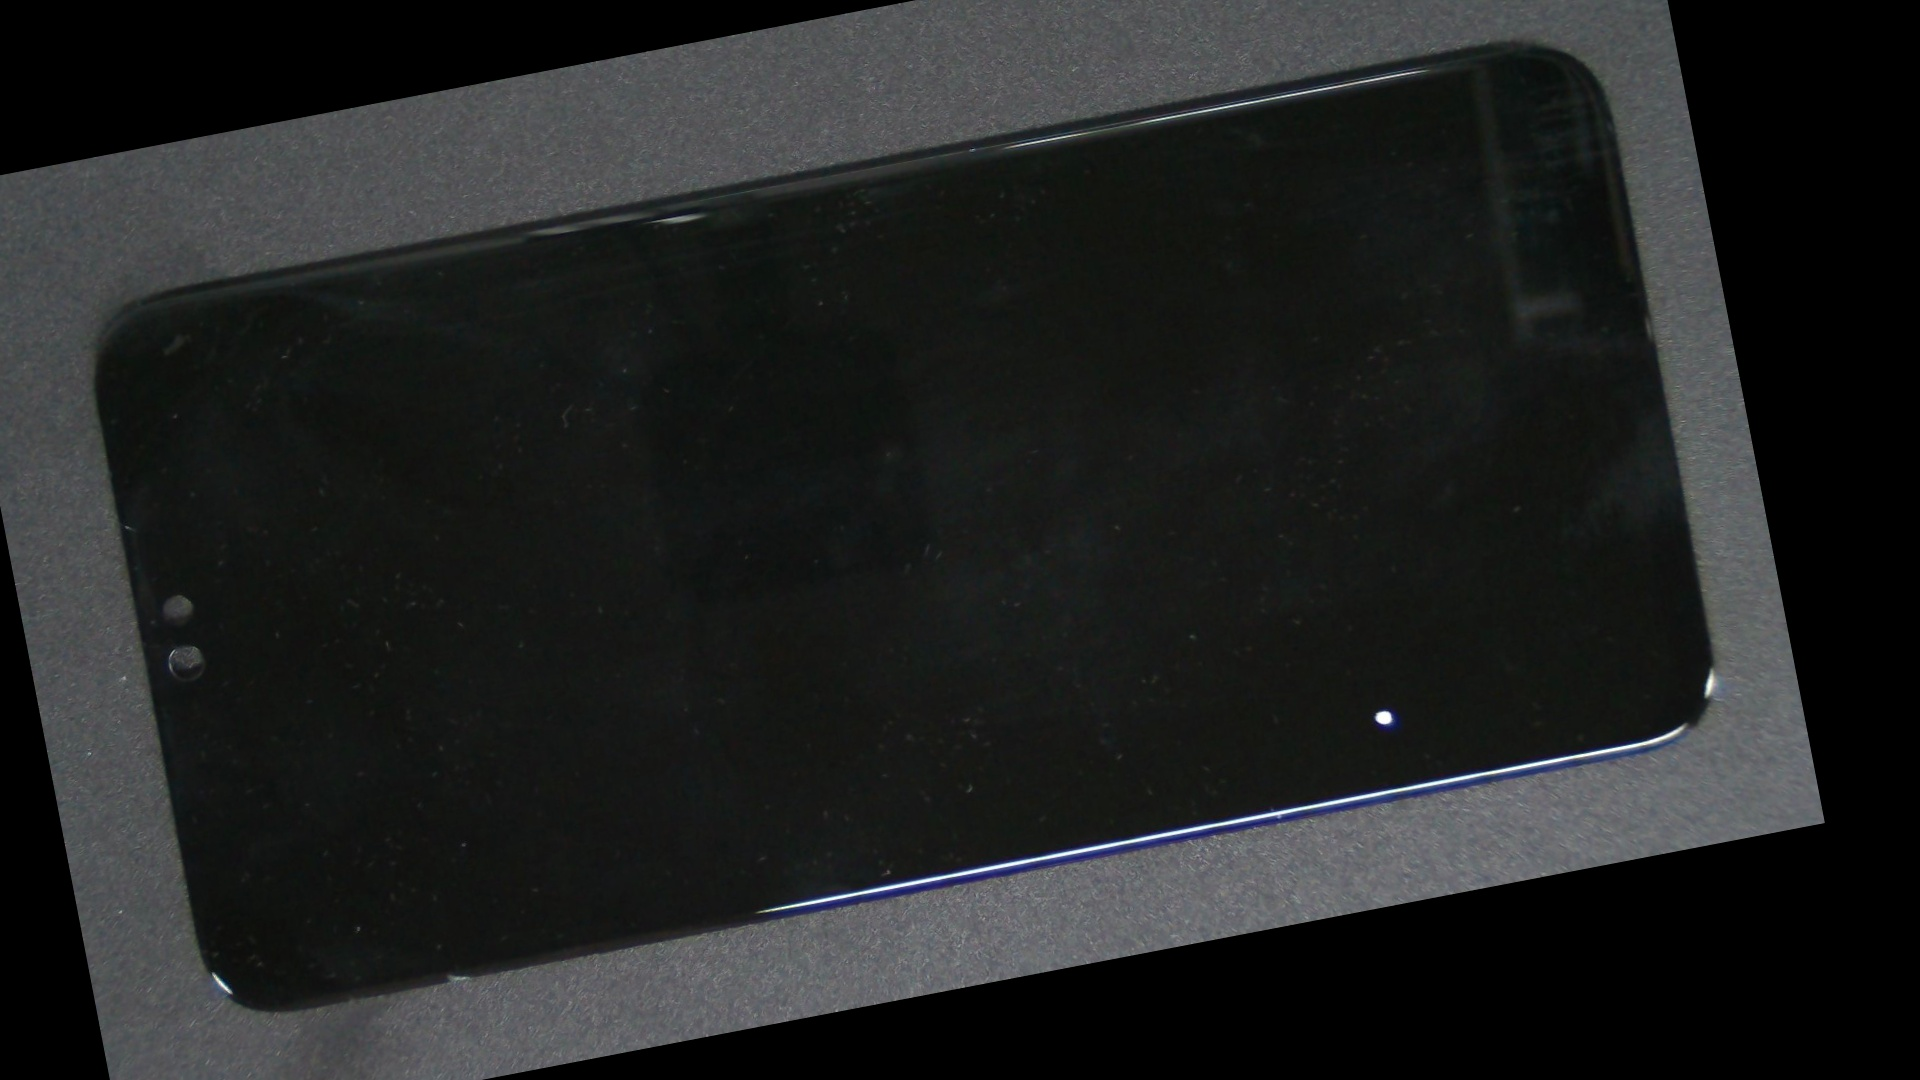oil: (659, 247, 1825, 1025)
